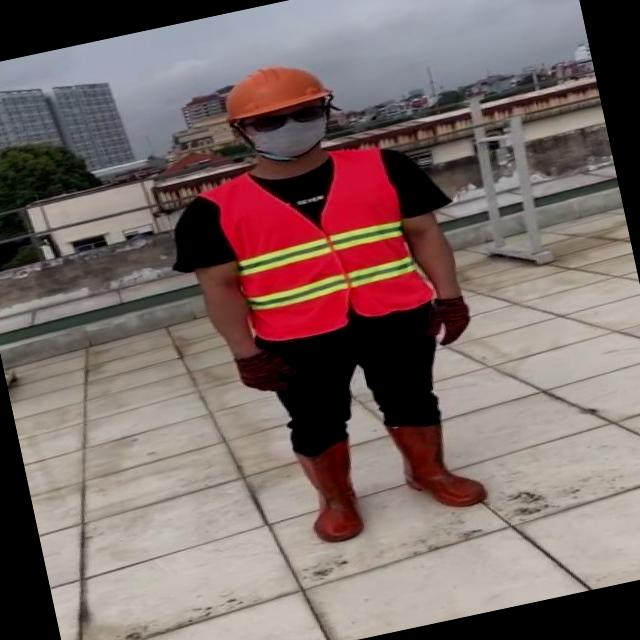boots: (385, 410, 491, 518), (290, 434, 371, 546)
gloves: (217, 326, 319, 414), (399, 270, 489, 357)
helmet: (215, 55, 332, 124)
vest: (206, 142, 439, 348)
